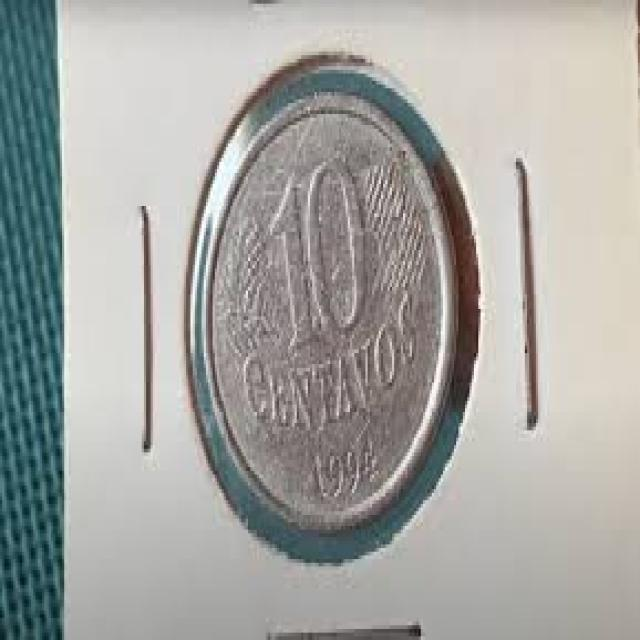10 cent: (199, 97, 459, 525)
